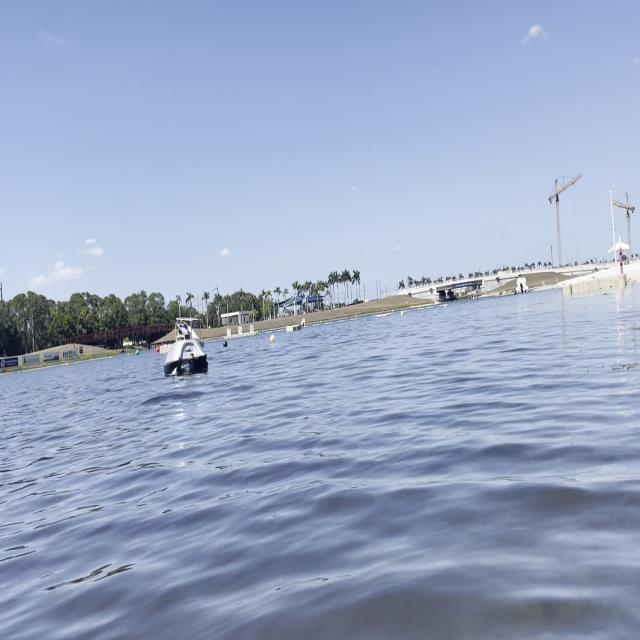buoy: (270, 334, 275, 344), (222, 339, 228, 347), (156, 344, 160, 352), (136, 349, 140, 355), (401, 310, 404, 316)
